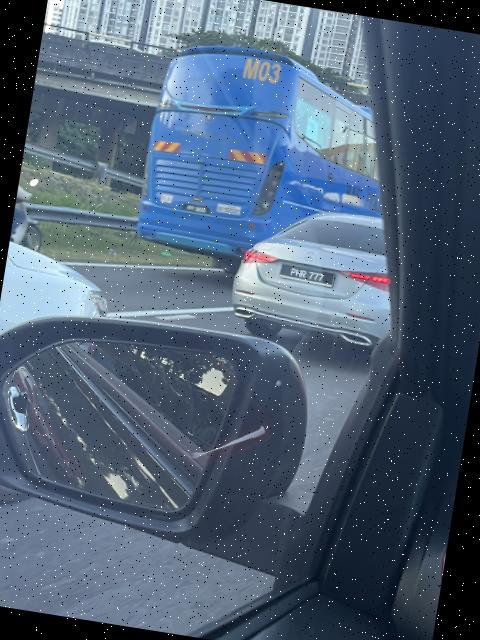License_Plate: (275, 262, 341, 299), (179, 201, 215, 220)
car: (228, 193, 453, 364)
